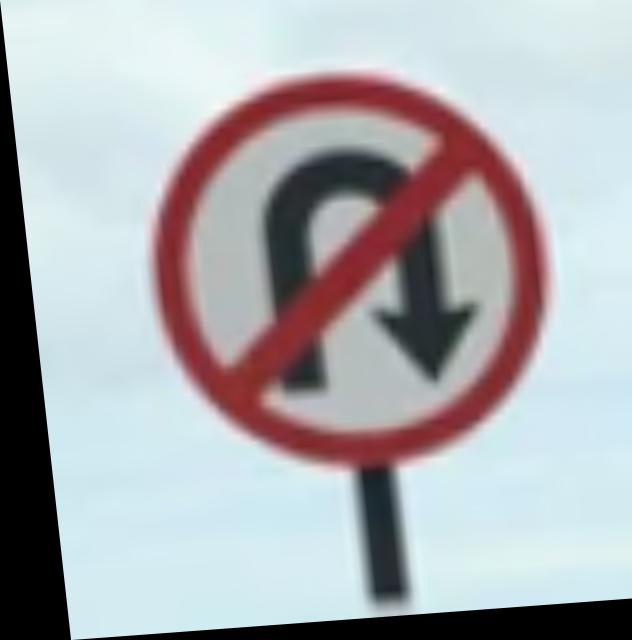not_u_turn_right: (127, 54, 566, 491)
